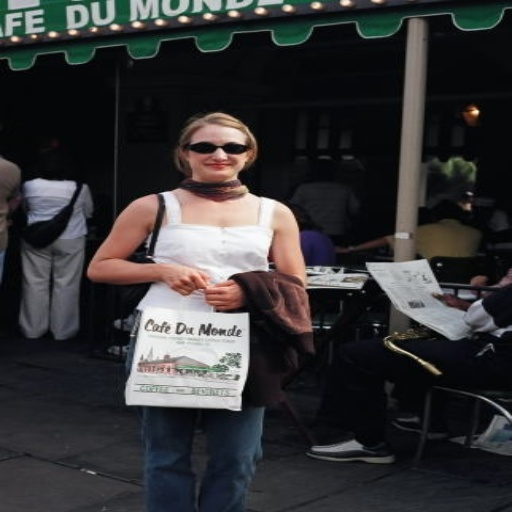hand: (133, 259, 217, 293), (198, 275, 244, 312), (427, 291, 467, 309)
